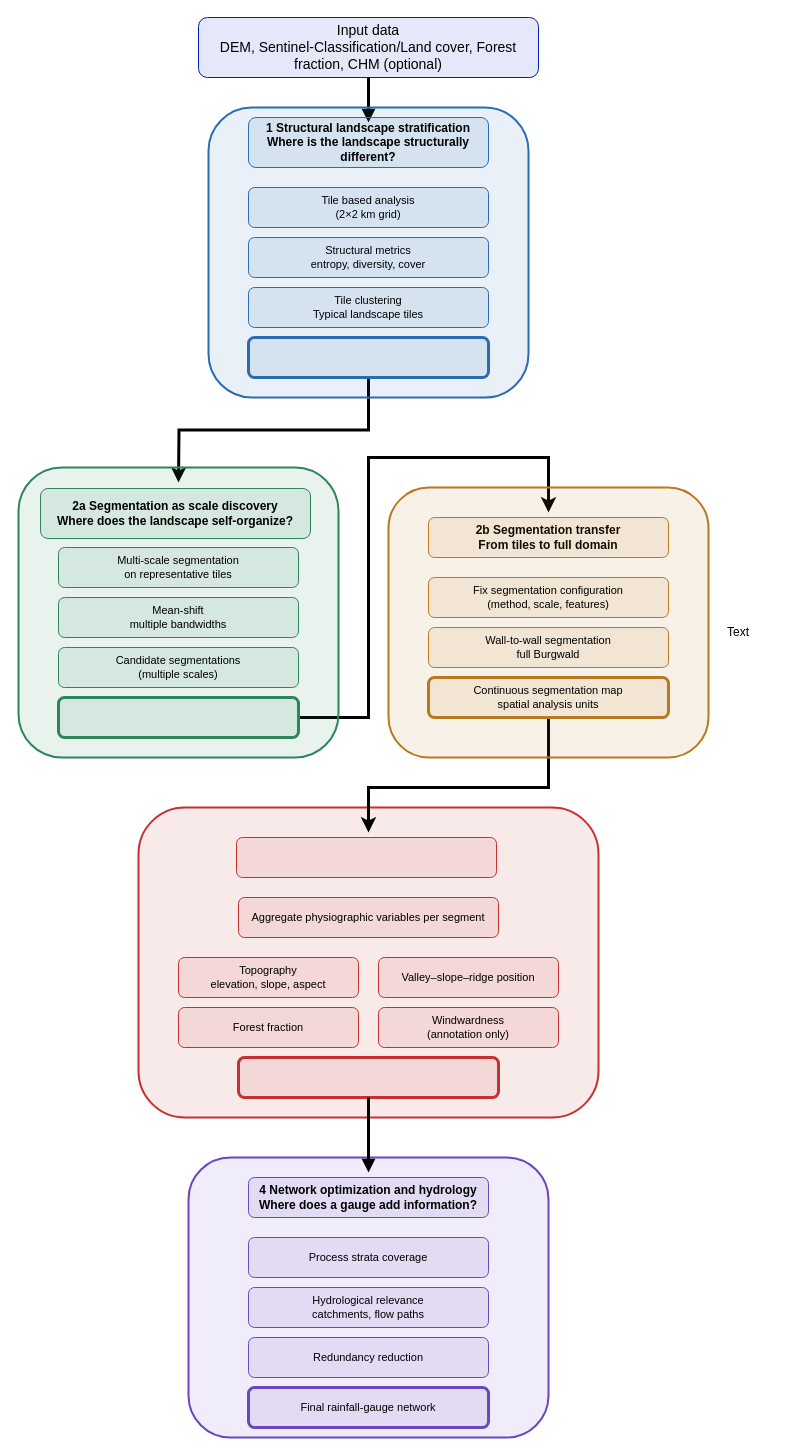
Some shapes in this 785 by 1456 pixel diagram are drawn without their labels. The centre of each missing label's shape, as x and y in pixels:
3 Physiographic process stratification Which processes dominate where?: (x=366, y=857)
Cluster into process strata cold air, orographic, forest–atmosphere: (x=368, y=1077)
Representative tiles (non-redundant test domains): (x=368, y=357)
Scale evaluation coherence, stability, interpretability: (x=178, y=717)
